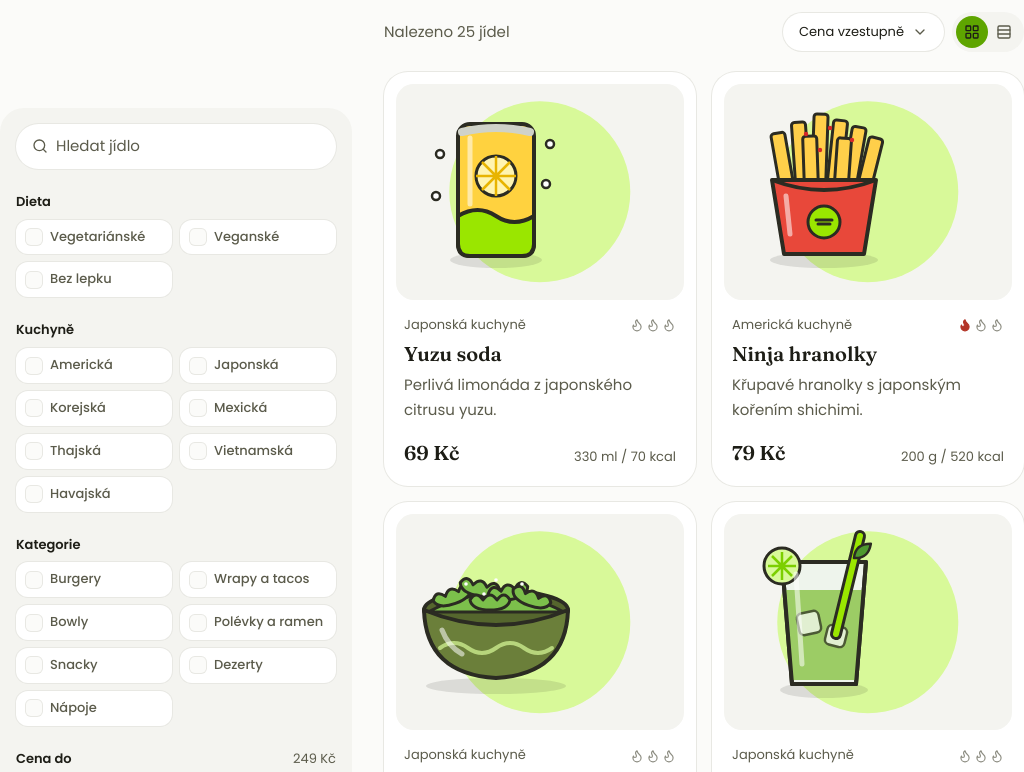
DishCatalog › filters results by search query without a reload
This screenshot has width=1024, height=772.
Type "bibimbap" into the search field labelled "Hledat jídlo" at (176,146), box [16,124,336,169]
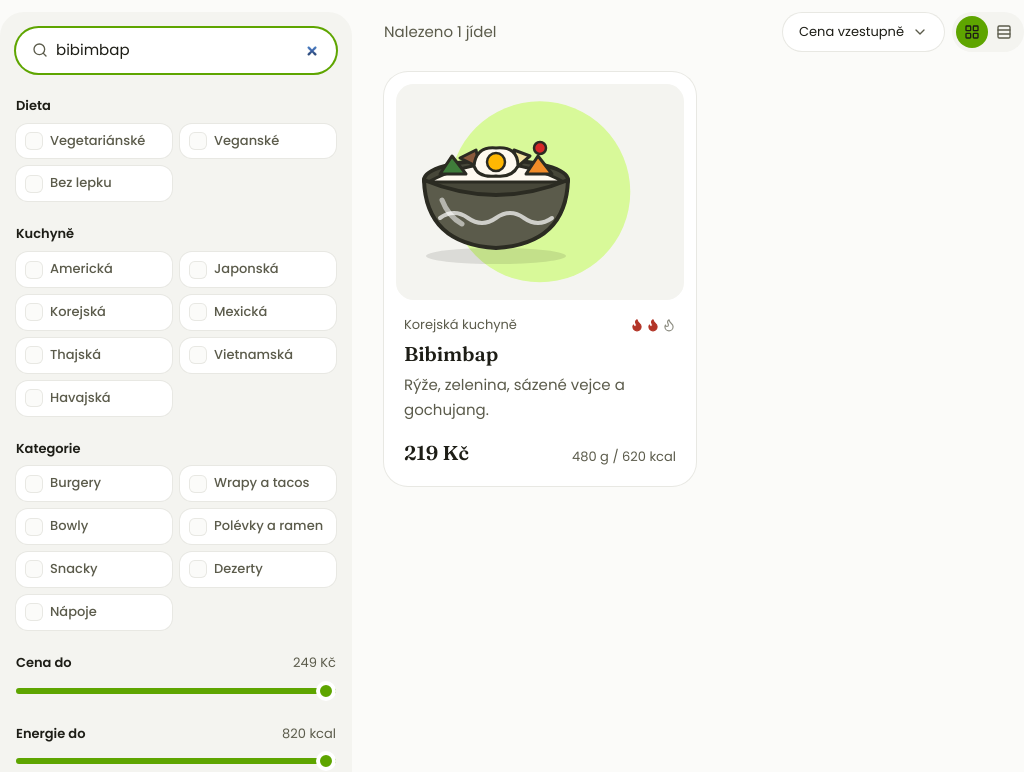
Expected: the heading "Bibimbap" is shown, [404,341,498,366]
Now the text "Nalezeno 1 jídel" is shown, box [384,20,496,44]
